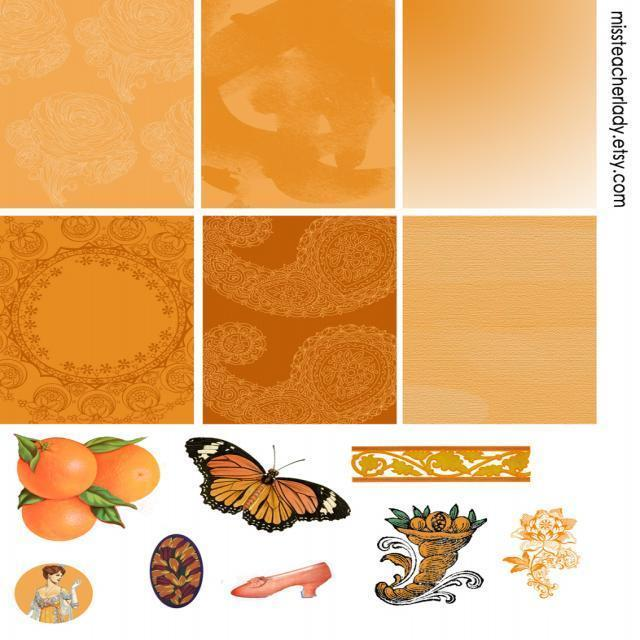Orange: (92, 442, 166, 503), (15, 440, 91, 495), (18, 501, 98, 544)
